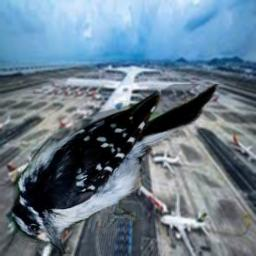Woodpecker: (6, 84, 222, 254)
